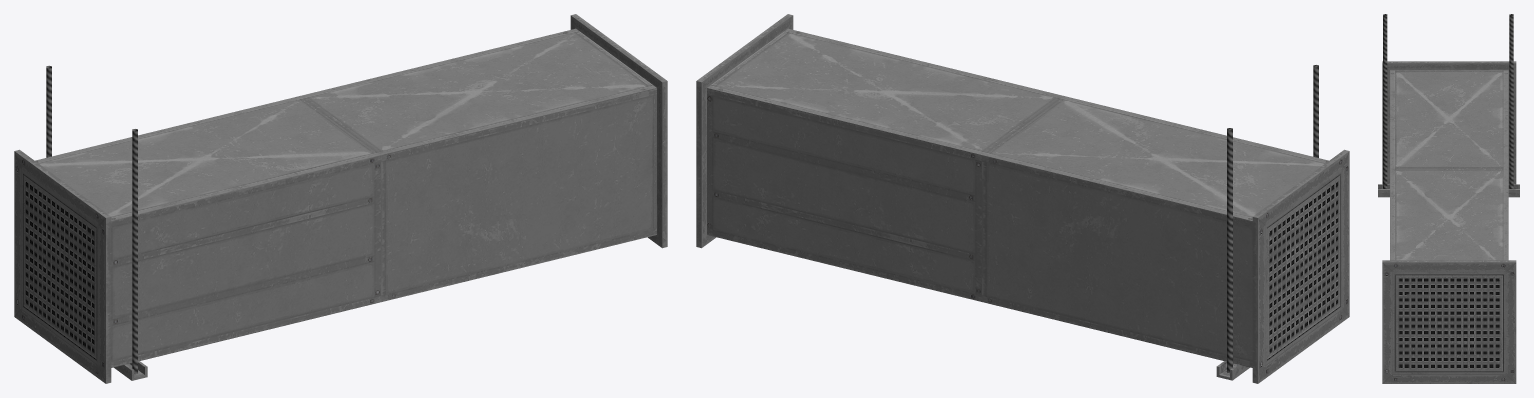
File: HH_Ventilation_2m_02.fbx
3 views of the same model, side by side, from view 1: azimuth 30°, elevation 25°; view 2: azimuth 150°, elevation 25°; view 3: azimuth 270°, elevation 25° (orthographic). The views are drawn at different scales.
Visible parts, largest first — view 1: HH_Ventilation_2m_02; view 2: HH_Ventilation_2m_02; view 3: HH_Ventilation_2m_02.
Part boxes in pixels (left/top/right/bottom): HH_Ventilation_2m_02: left=14, top=14, right=667, bottom=383; HH_Ventilation_2m_02: left=696, top=14, right=1349, bottom=383; HH_Ventilation_2m_02: left=1378, top=14, right=1519, bottom=383.
Bounding box in the file's own units: 200 × 83.44 × 59.65.
